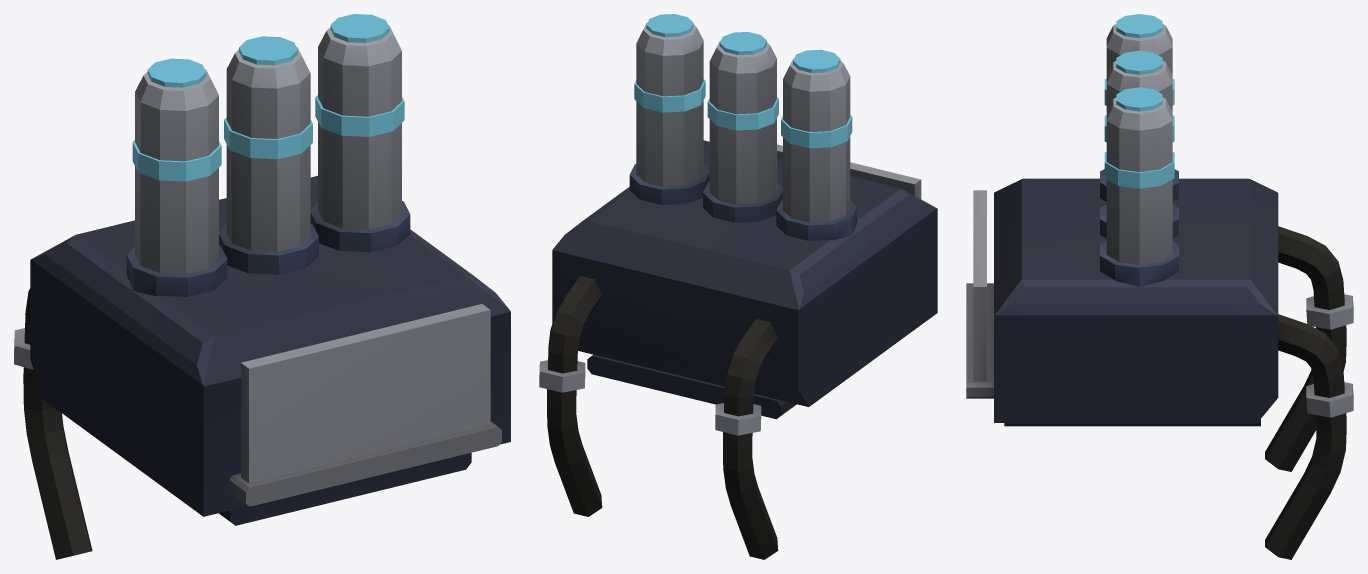
The model's file is sh-capacitor.glb.
3 renders of one model, left to right at view 1: azimuth 30°, elevation 25°; view 2: azimuth 150°, elevation 25°; view 3: azimuth 270°, elevation 25°, orthographic. The views are drawn at different scales.
Parts seen in each view (by area): view 1: Body, Glow; view 2: Body, Glow; view 3: Body, Glow.
Part boxes in pixels (x1=…): Body: x1=14, y1=25, x2=510, y2=559; Glow: x1=132, y1=14, x2=404, y2=181; Body: x1=539, y1=23, x2=937, y2=559; Glow: x1=634, y1=14, x2=852, y2=148; Body: x1=966, y1=24, x2=1353, y2=559; Glow: x1=1104, y1=14, x2=1174, y2=188.
Size of the model in its own units: 0.84 by 1.44 by 1.12.
